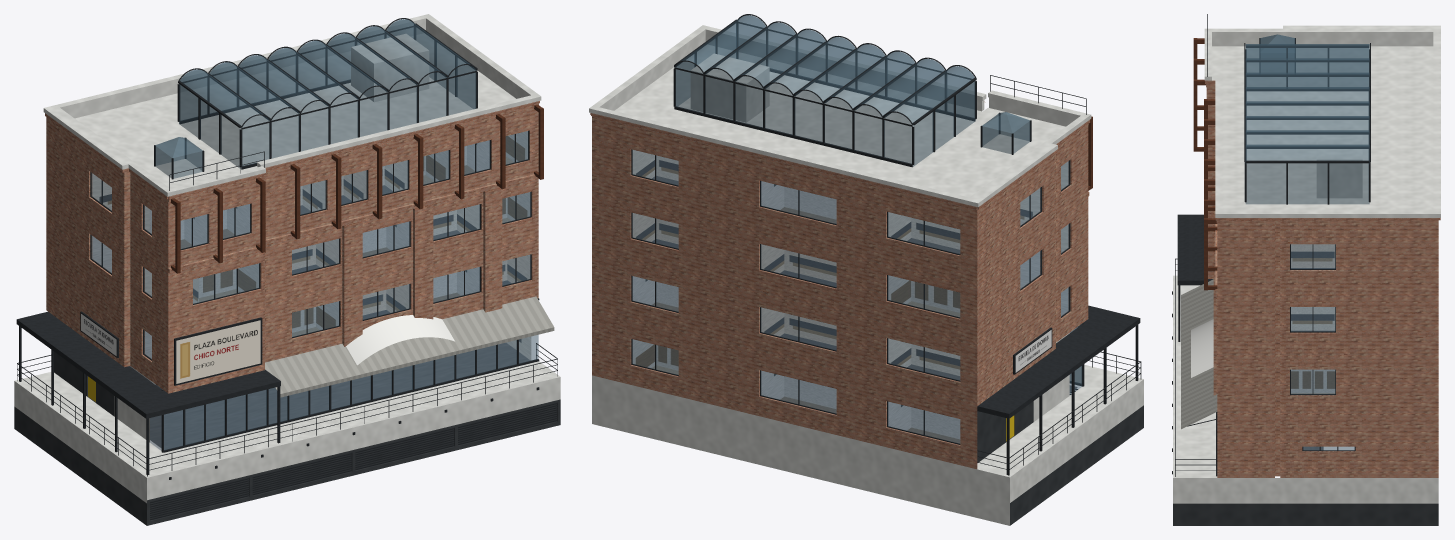
Rendered from plaza_boulevard_lod0.glb.
3 renders of one model, left to right at view 1: azimuth 30°, elevation 25°; view 2: azimuth 150°, elevation 25°; view 3: azimuth 270°, elevation 25°, orthographic.
Parts seen in each view (by area): view 1: MAT_Brick_Terracotta, MAT_Concrete_White, MAT_Glass_BlueGrey (×5), MAT_Interior_Office, MAT_Metal_Graphite, MAT_Concrete_Dark, MAT_Awning_Fabric, MAT_Canopy, MAT_Frame_Corten, MAT_Sign_Front, MAT_Arc_White, MAT_Sign_Side; view 2: MAT_Brick_Terracotta, MAT_Concrete_White, MAT_Glass_BlueGrey (×4), MAT_Interior_Office, MAT_Metal_Graphite, MAT_Canopy, MAT_Concrete_Dark, MAT_Sign_Side; view 3: MAT_Brick_Terracotta, MAT_Concrete_White, MAT_Glass_BlueGrey (×3), MAT_Concrete_Dark, MAT_Metal_Graphite, MAT_Interior_Office, MAT_Awning_Fabric, MAT_Frame_Corten, MAT_Canopy, MAT_Arc_White.
Part boxes in pixels (x1,y1,x2,y2): MAT_Brick_Terracotta: (45,101,539,393); MAT_Concrete_White: (14,14,560,503); MAT_Glass_BlueGrey (×5): (91,19,538,450); MAT_Interior_Office: (92,131,531,449); MAT_Metal_Graphite: (17,18,557,520); MAT_Concrete_Dark: (14,351,560,525); MAT_Awning_Fabric: (265,296,554,397); MAT_Canopy: (16,311,280,418); MAT_Frame_Corten: (170,104,543,273); MAT_Sign_Front: (176,320,260,383); MAT_Arc_White: (346,315,454,365); MAT_Sign_Side: (81,314,116,356); MAT_Brick_Terracotta: (590,101,1089,469); MAT_Concrete_White: (589,25,1143,525); MAT_Glass_BlueGrey (×4): (632,15,1069,443); MAT_Interior_Office: (632,150,1077,443); MAT_Metal_Graphite: (631,14,1141,475); MAT_Canopy: (977,305,1140,418); MAT_Concrete_Dark: (977,401,1143,525); MAT_Sign_Side: (1015,330,1051,372); MAT_Brick_Terracotta: (1205,80,1440,477); MAT_Concrete_White: (1173,25,1440,503); MAT_Glass_BlueGrey (×3): (1245,34,1369,450); MAT_Concrete_Dark: (1173,503,1438,525); MAT_Metal_Graphite: (1172,14,1370,476); MAT_Interior_Office: (1291,244,1335,450); MAT_Awning_Fabric: (1181,279,1217,429); MAT_Frame_Corten: (1193,38,1217,290); MAT_Canopy: (1177,214,1213,285); MAT_Arc_White: (1191,319,1213,377).
Size of the model in its own units: 27.12 by 21.81 by 15.18.
Materials: 14 (10 with a texture image).
